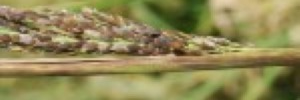RiceSheathBrownRot: (1, 3, 300, 70)
